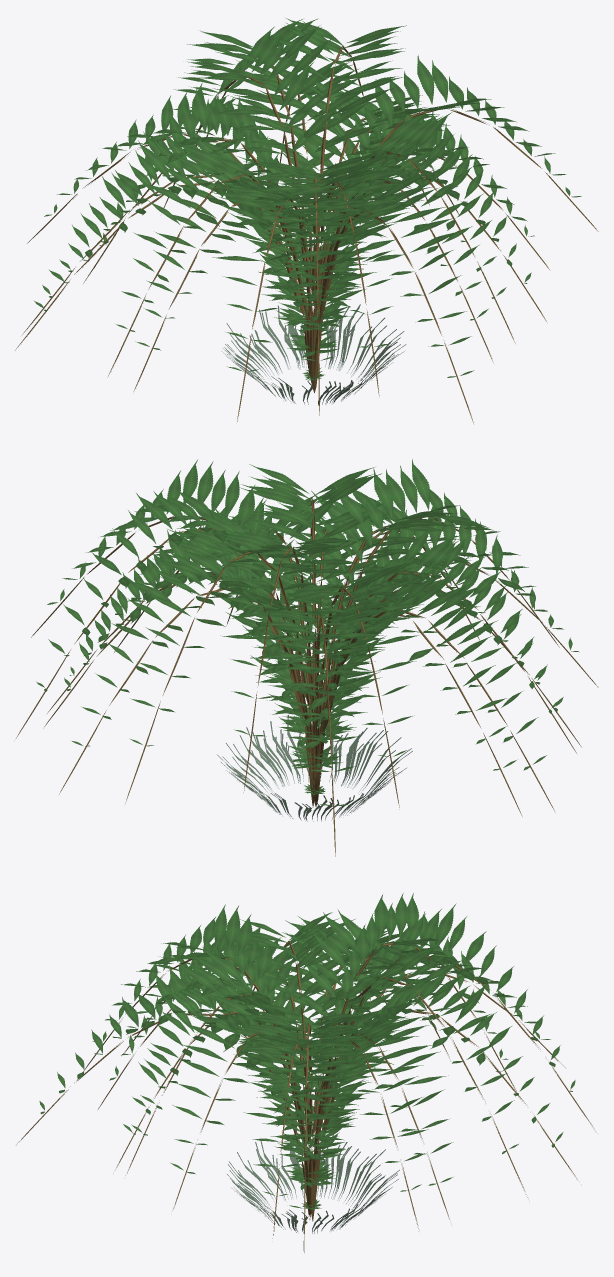
File: FERN_local.glb
3 renders of one model, top to bottom at view 1: azimuth 30°, elevation 25°; view 2: azimuth 150°, elevation 25°; view 3: azimuth 270°, elevation 25°, orthographic. The views are drawn at different scales.
Parts seen in each view (by area): view 1: FERN_02_Woodland_Fan__FoliageCards, FERN_02_Woodland_Fan__WoodyStems; view 2: FERN_02_Woodland_Fan__FoliageCards, FERN_02_Woodland_Fan__WoodyStems; view 3: FERN_02_Woodland_Fan__FoliageCards, FERN_02_Woodland_Fan__WoodyStems.
Part boxes in pixels (<box>): FERN_02_Woodland_Fan__FoliageCards: <box>34,18,581,405</box>; FERN_02_Woodland_Fan__WoodyStems: <box>15,46,598,423</box>; FERN_02_Woodland_Fan__FoliageCards: <box>36,459,579,821</box>; FERN_02_Woodland_Fan__WoodyStems: <box>16,498,598,856</box>; FERN_02_Woodland_Fan__FoliageCards: <box>39,893,575,1233</box>; FERN_02_Woodland_Fan__WoodyStems: <box>16,941,594,1252</box>.
Bounding box in the file's own units: 1.19 × 0.6589 × 1.15.
1 material, 1 textured.
